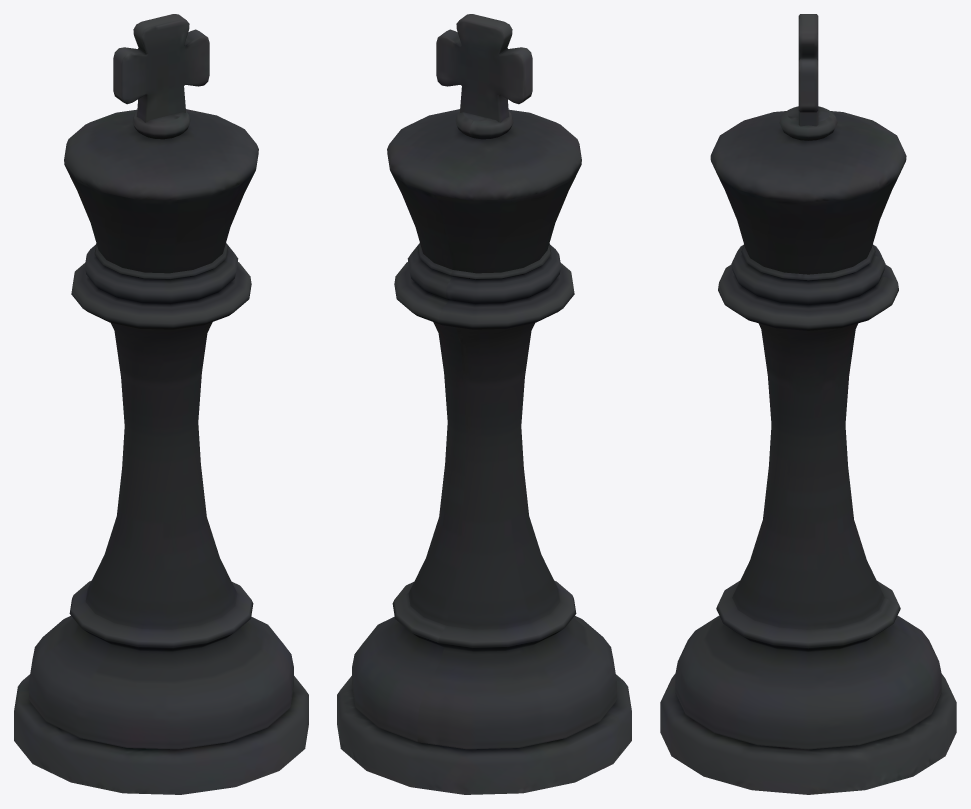
File: king_black.glb
3 renders of one model, left to right at view 1: azimuth 30°, elevation 25°; view 2: azimuth 150°, elevation 25°; view 3: azimuth 270°, elevation 25°, orthographic.
Parts seen in each view (by area): view 1: king_black; view 2: king_black; view 3: king_black.
Boxes of the visible parts, x1=… form: king_black: x1=14, y1=14, x2=308, y2=794; king_black: x1=337, y1=14, x2=631, y2=794; king_black: x1=660, y1=14, x2=956, y2=794.
Size of the model in its own units: 1.49 by 3.94 by 1.49.
1 material, 1 textured.
